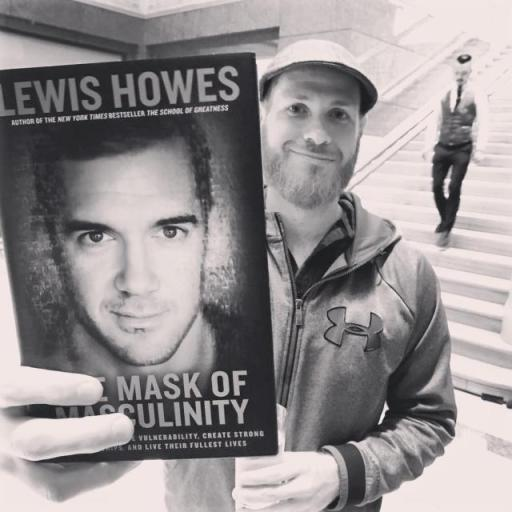Under Armour: (320, 303, 386, 354)
